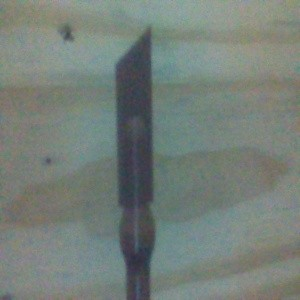cutter: (113, 26, 156, 300)
